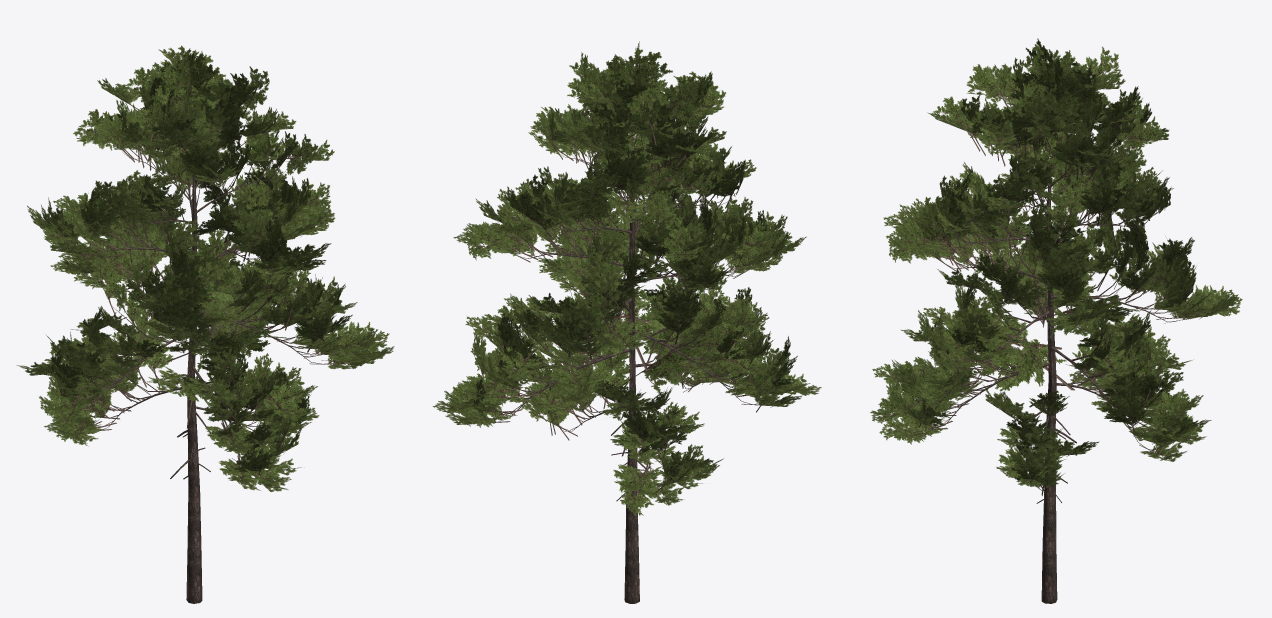
File: tree3.glb
The picture shows the model from 3 angles, left to right: view 1: azimuth 30°, elevation 25°; view 2: azimuth 150°, elevation 25°; view 3: azimuth 270°, elevation 25°; orthographic projection.
Visible parts, largest first — view 1: PineTree; view 2: PineTree; view 3: PineTree.
Boxes of the visible parts, x1,y1,x2,y2 form: PineTree: [16, 45, 394, 603]; PineTree: [432, 41, 821, 603]; PineTree: [870, 38, 1242, 603].
Size of the model in its own units: 11.2 by 17.67 by 11.23.
2 materials, 2 textured.
